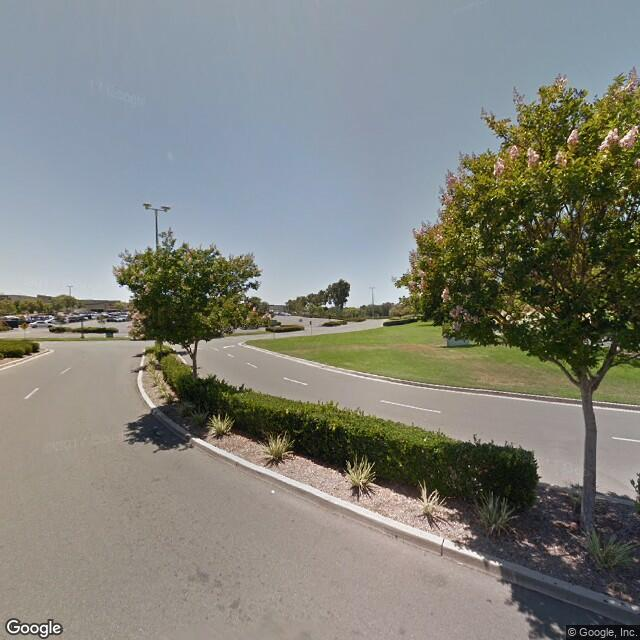litter: (267, 487, 278, 499)
